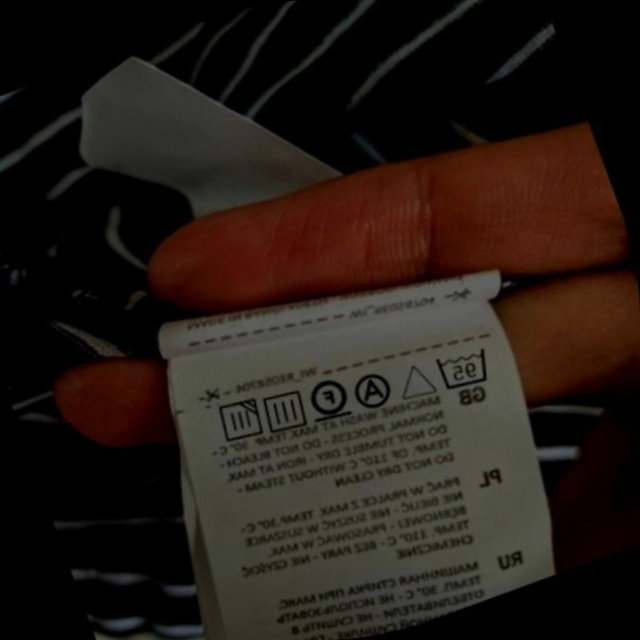95C: (423, 333, 502, 404)
bleach: (387, 349, 446, 411)
drip_dry: (250, 377, 319, 444)
drip_dry_in_shade: (203, 386, 273, 456)
dry_clean: (344, 361, 404, 420)
dry_clean_petrol_only: (296, 364, 361, 432)
